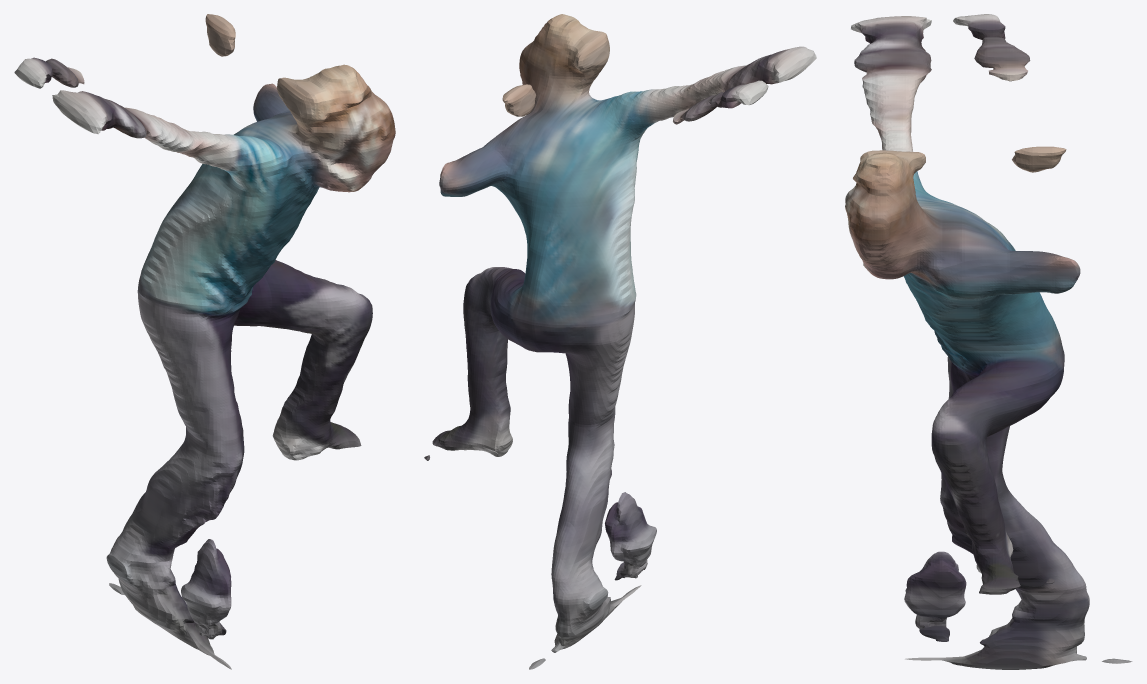
Rendered from 0039_tex.glb.
3 views of the same model, side by side, from view 1: azimuth 30°, elevation 25°; view 2: azimuth 150°, elevation 25°; view 3: azimuth 270°, elevation 25° (orthographic). The views are drawn at different scales.
Visible parts, largest first — view 1: 0039_tex.obj; view 2: 0039_tex.obj; view 3: 0039_tex.obj.
Part boxes in pixels (box(x1,y1,x2,y2)): 0039_tex.obj: box(14, 14, 395, 669); 0039_tex.obj: box(424, 14, 816, 669); 0039_tex.obj: box(845, 14, 1132, 669).
Size of the model in its own units: 0.5103 by 0.8852 by 0.3996.
